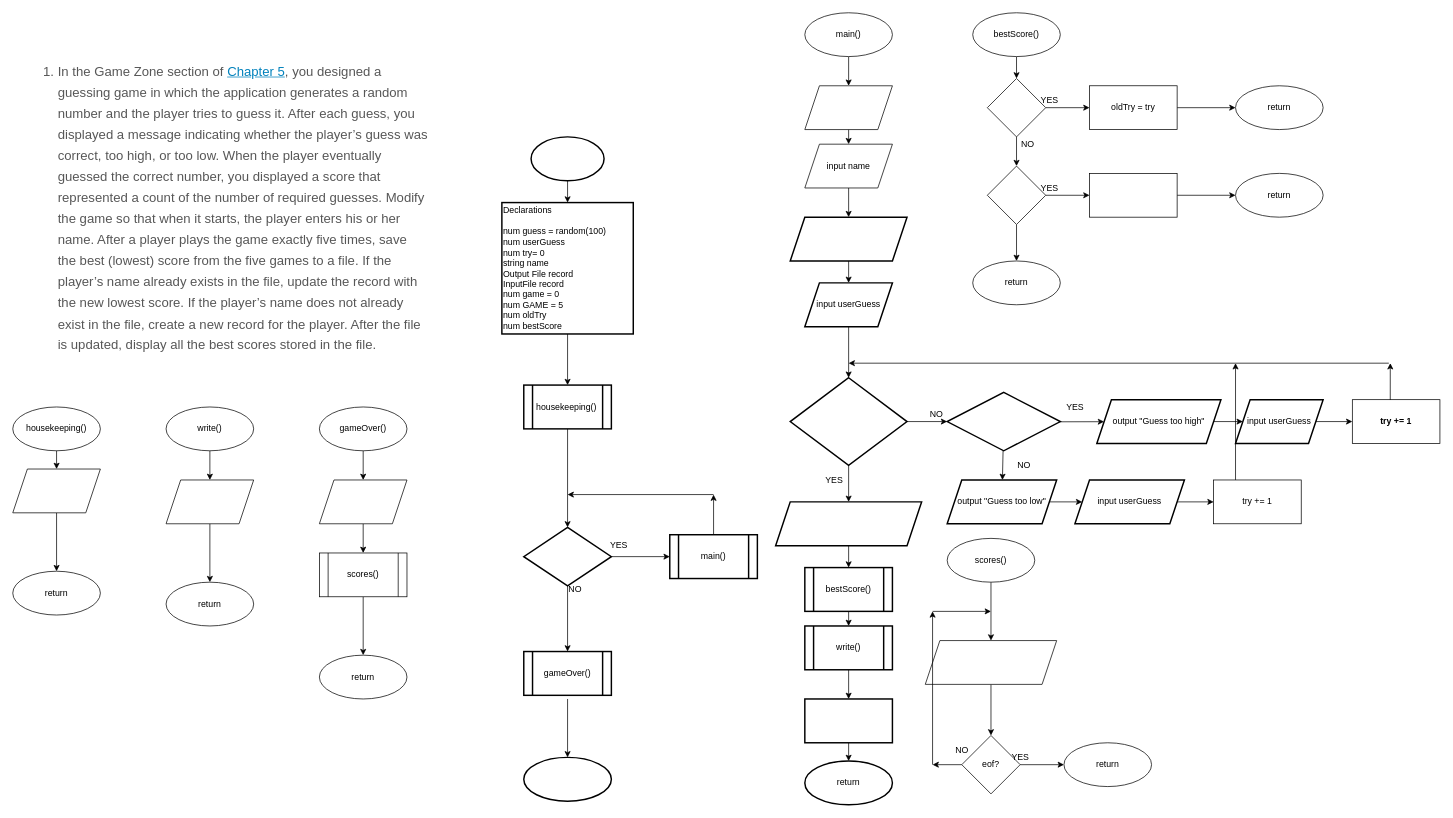
Image size: 1453x818. Some labels were removed from this diagram. Each missing label, with the centre of its shape:
bestScore = try oldTry = try: point 1133,195
game += 1: point 848,720
game < GAME: point 567,556
game == 0: point 1016,107
guess == userGuess: point 848,421
guess > userGuess: point 1003,421
input bestScore from record: point 991,662
open record "Game.dat": point 56,490
output "BEST SCORES": point 363,501
output "enter a guess": point 848,238
output "Enter your name": point 848,107
output "you guessed correctly! It took you ", try, "tries.": point 848,523
output name, bestScore to record: point 209,501
start: point 567,158
stop: point 567,779
try < oldTry: point 1016,194
